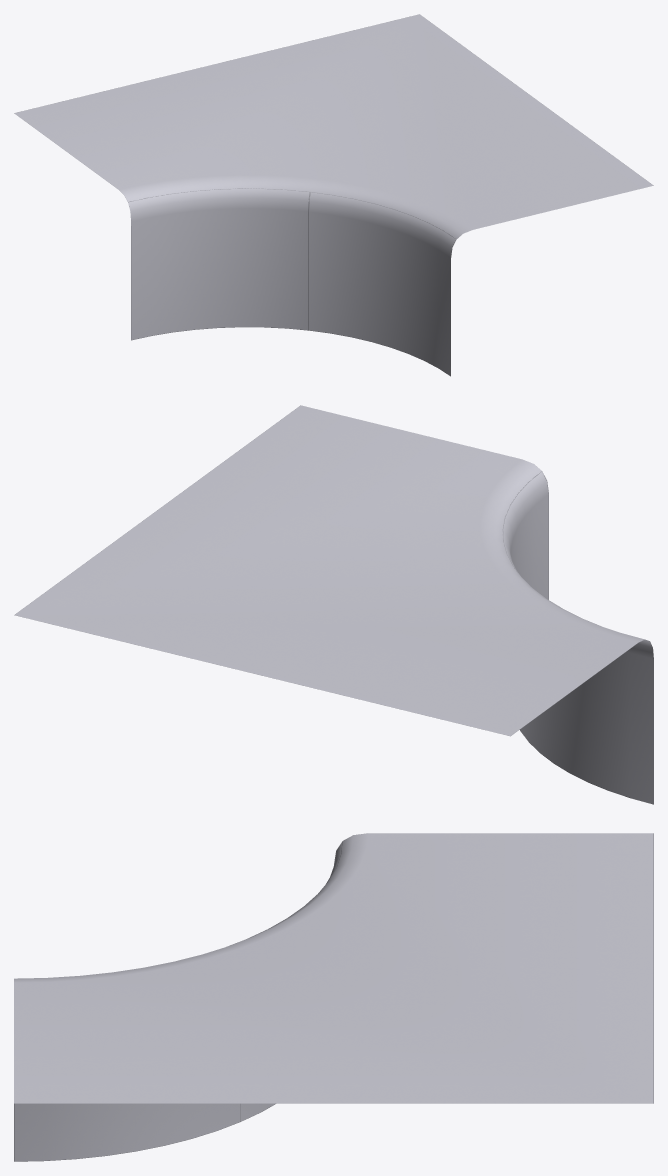
Rendered from Plate_Form_02_LP.FBX.
3 renders of one model, top to bottom at view 1: azimuth 30°, elevation 25°; view 2: azimuth 150°, elevation 25°; view 3: azimuth 270°, elevation 25°, orthographic. The views are drawn at different scales.
Visible parts, largest first — view 1: Plate_Form_02_LP; view 2: Plate_Form_02_LP; view 3: Plate_Form_02_LP.
Boxes of the visible parts, x1,y1,x2,y2 form: Plate_Form_02_LP: [14, 14, 653, 376]; Plate_Form_02_LP: [14, 405, 653, 804]; Plate_Form_02_LP: [14, 833, 653, 1161].
Size of the model in its own units: 12 by 4 by 12.
